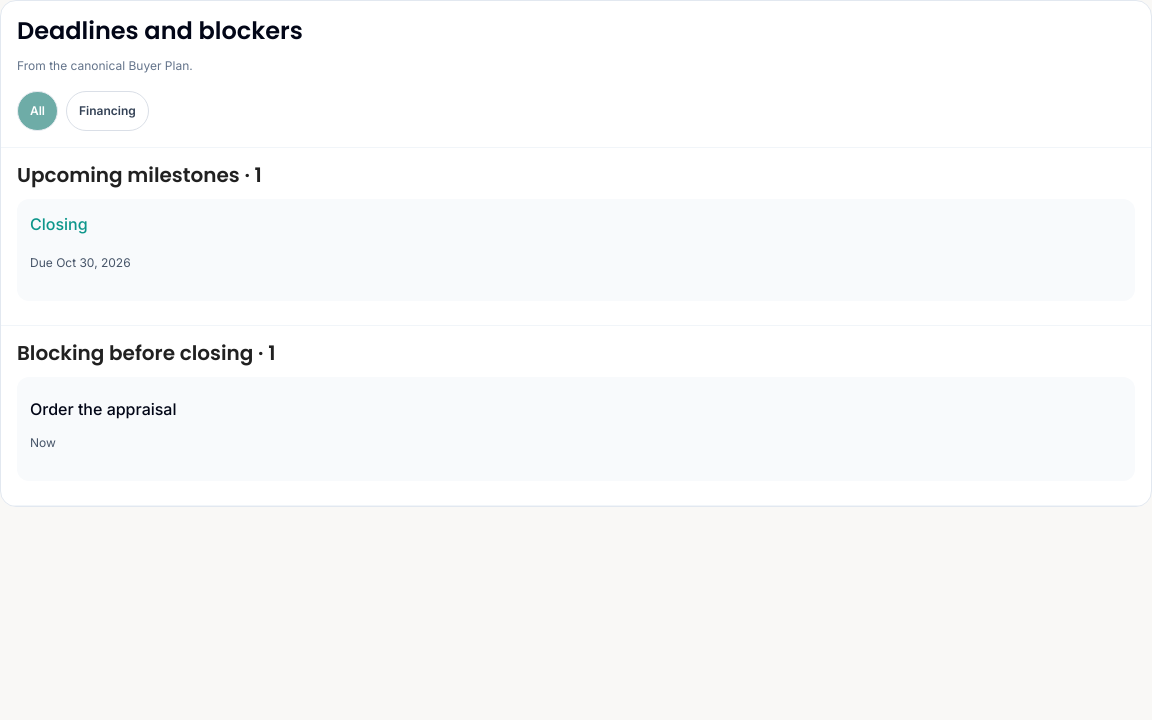
a blocking task opens inline from the Buyer Plan task read; milestones stay links
Click the button "Order the appraisal": (103, 410) [30, 390, 176, 430]
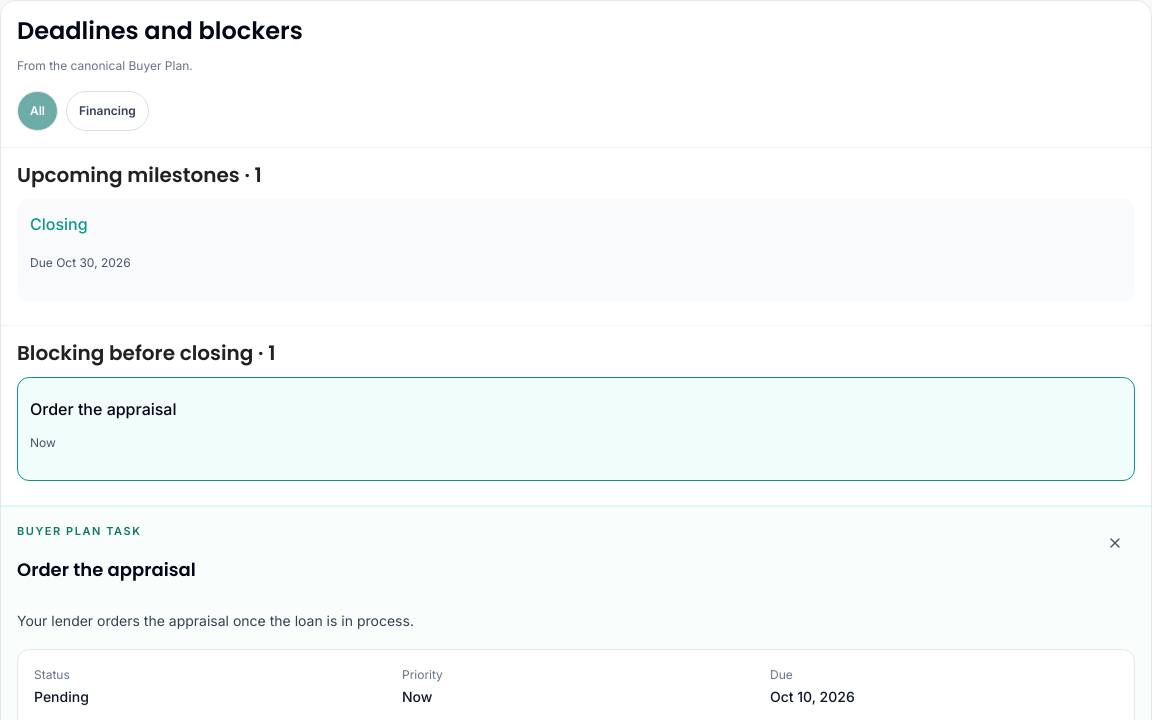
Result: the text "Your lender orders the appraisal once the loan is in process." is shown at [17, 612, 414, 629]
